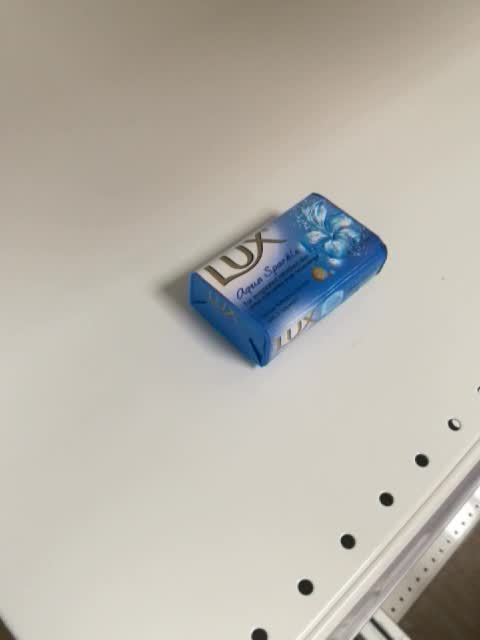soap: (188, 192, 387, 368)
